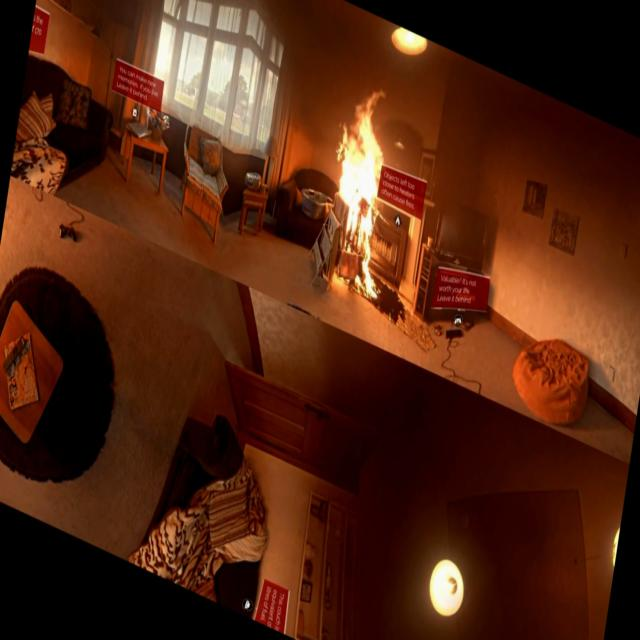fire: (326, 79, 398, 248)
